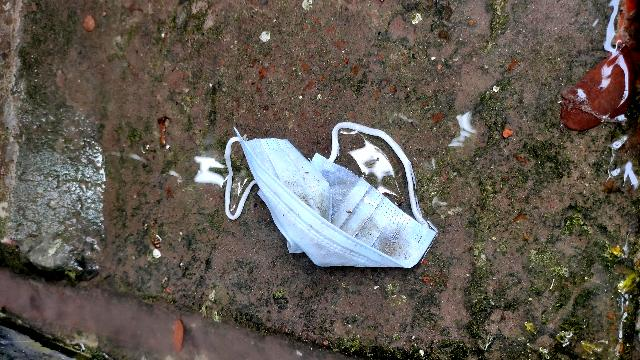mask: (234, 70, 454, 299)
